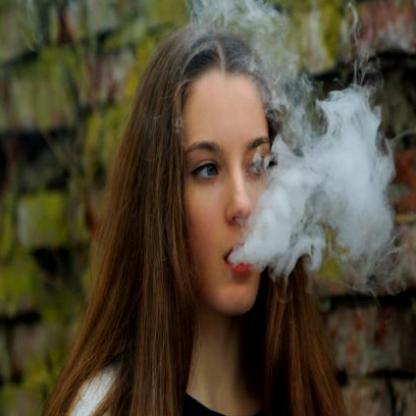person: (121, 19, 288, 415)
smoke: (313, 87, 407, 287), (240, 152, 326, 266), (264, 76, 314, 132), (190, 0, 276, 32)
